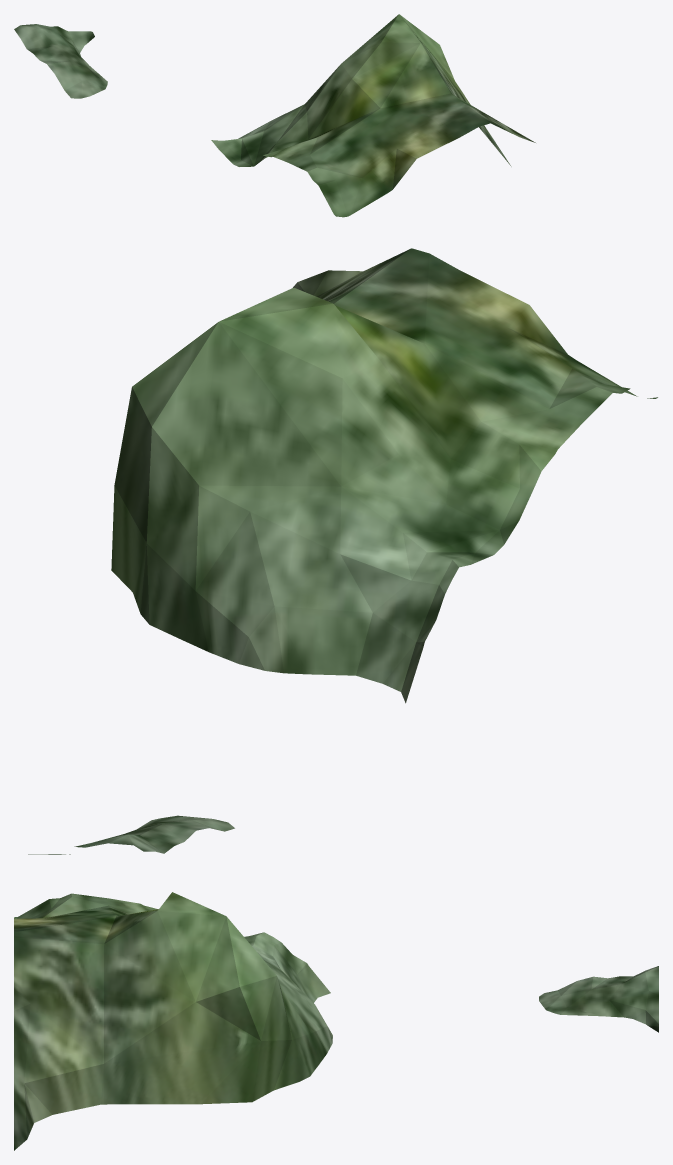
The picture shows the model from 3 angles, top to bottom: view 1: azimuth 30°, elevation 25°; view 2: azimuth 150°, elevation 25°; view 3: azimuth 270°, elevation 25°; orthographic projection. The views are drawn at different scales.
Size of the model in its own units: 1.71 by 0.8172 by 2.95.
1 material, 1 textured.
